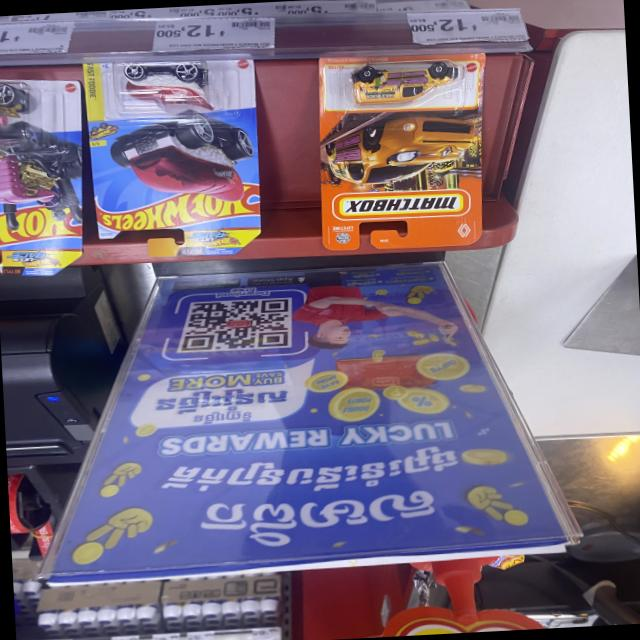141: (156, 23, 176, 30), (407, 19, 428, 24)
558: (429, 17, 469, 33), (176, 23, 218, 38)
776: (409, 22, 435, 35), (156, 29, 181, 41)
Yolov11kh: (150, 441, 464, 505), (193, 483, 447, 558), (147, 385, 288, 419), (183, 408, 255, 427), (218, 29, 228, 38), (470, 22, 478, 33)
